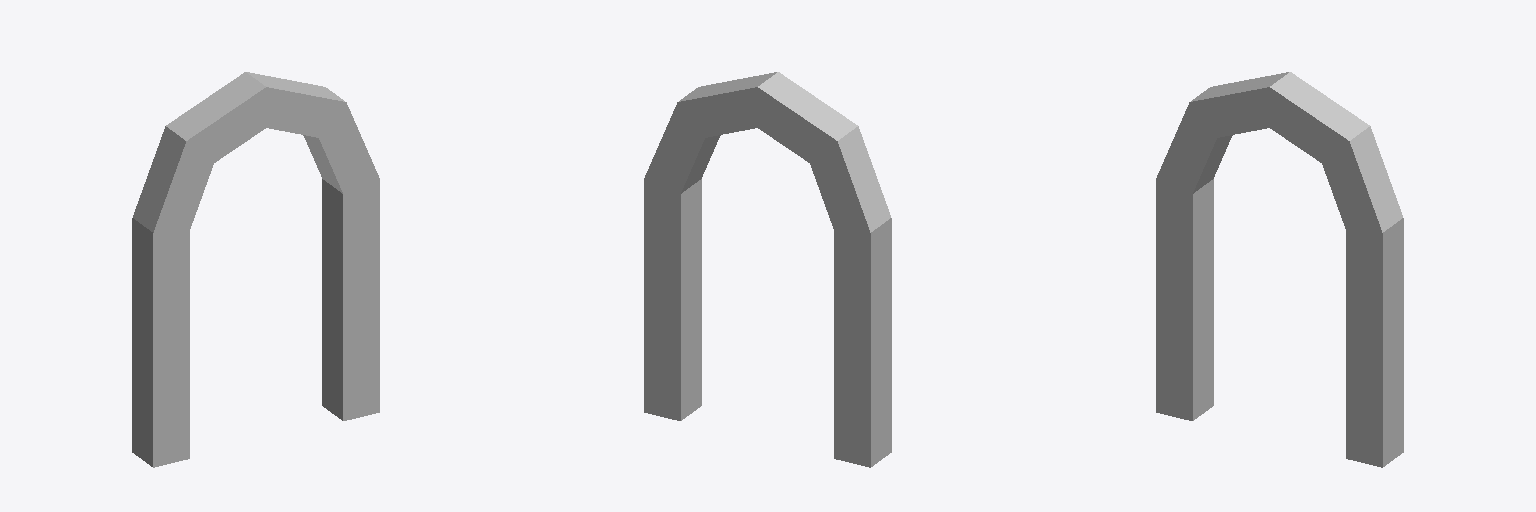
File: window-white-round-top.obj
3 renders of one model, left to right at view 1: azimuth 30°, elevation 25°; view 2: azimuth 150°, elevation 25°; view 3: azimuth 330°, elevation 25°, orthographic.
Visible parts, largest first — view 1: window-white-round-top; view 2: window-white-round-top; view 3: window-white-round-top.
Part boxes in pixels (bbox=[...]): window-white-round-top: bbox=[132, 72, 379, 467]; window-white-round-top: bbox=[644, 72, 891, 467]; window-white-round-top: bbox=[1156, 72, 1403, 467].
Bounding box in the file's own units: 0.3125 × 0.4663 × 0.05.